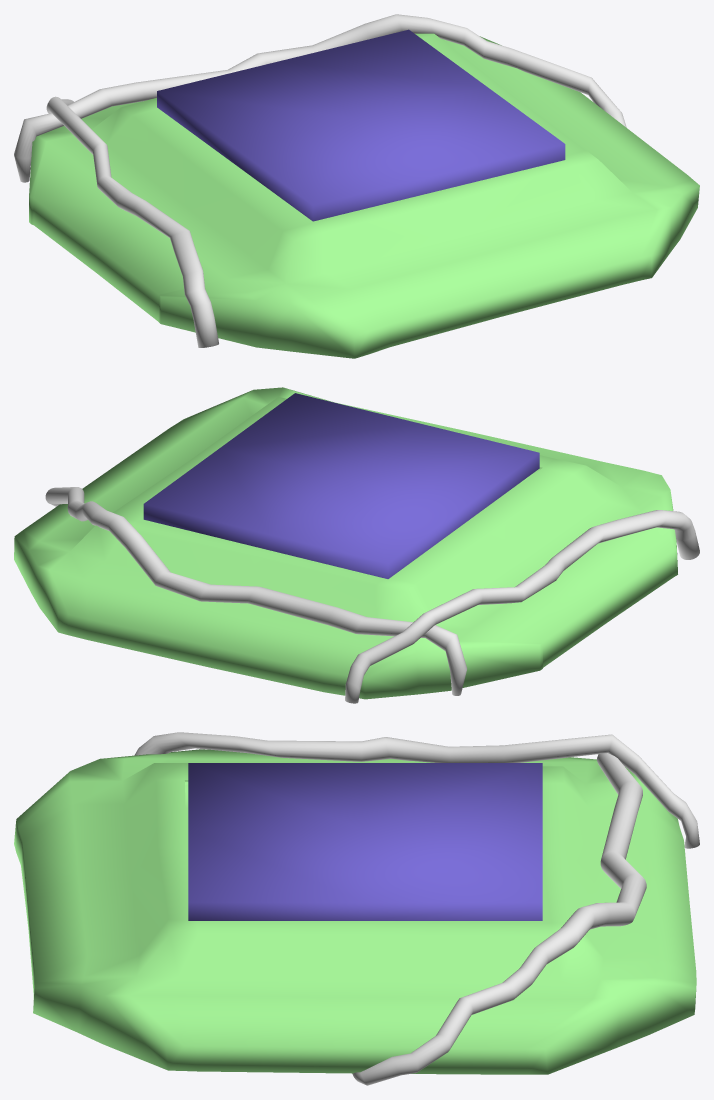
File: Bounce_Pad.FBX
3 views of the same model, one above another, from view 1: azimuth 30°, elevation 25°; view 2: azimuth 150°, elevation 25°; view 3: azimuth 270°, elevation 25° (orthographic). The views are drawn at different scales.
Parts seen in each view (by area): view 1: StoneBase, Emissive, Vine1, Vine2; view 2: StoneBase, Emissive, Vine1, Vine2; view 3: StoneBase, Emissive, Vine1, Vine2.
Part boxes in pixels (x1,y1,x2,y2): StoneBase: [29, 33, 699, 358]; Emissive: [157, 29, 565, 221]; Vine1: [14, 14, 626, 182]; Vine2: [46, 96, 218, 347]; StoneBase: [14, 387, 677, 699]; Emissive: [143, 393, 539, 578]; Vine1: [45, 487, 467, 695]; Vine2: [345, 510, 699, 703]; StoneBase: [14, 749, 696, 1074]; Emissive: [188, 763, 542, 920]; Vine1: [352, 753, 646, 1085]; Vine2: [134, 732, 699, 848].
Bounding box in the file's own units: 21.99 × 3.61 × 20.97.
